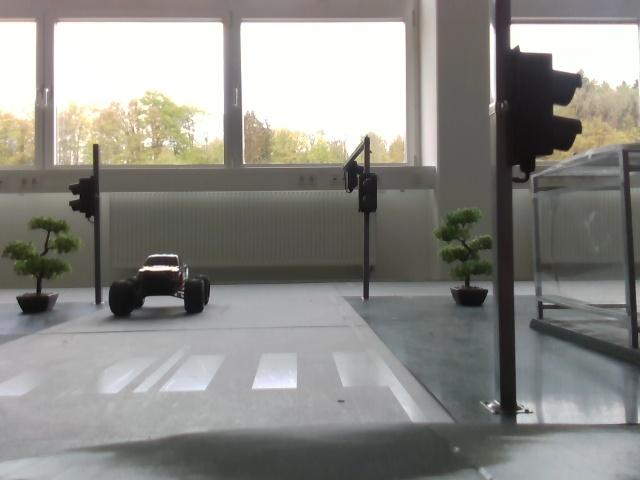car: (105, 244, 215, 320)
potted plant: (9, 208, 82, 329), (436, 208, 496, 316)
traffic light: (500, 54, 590, 171), (348, 171, 386, 216), (72, 170, 102, 221)
